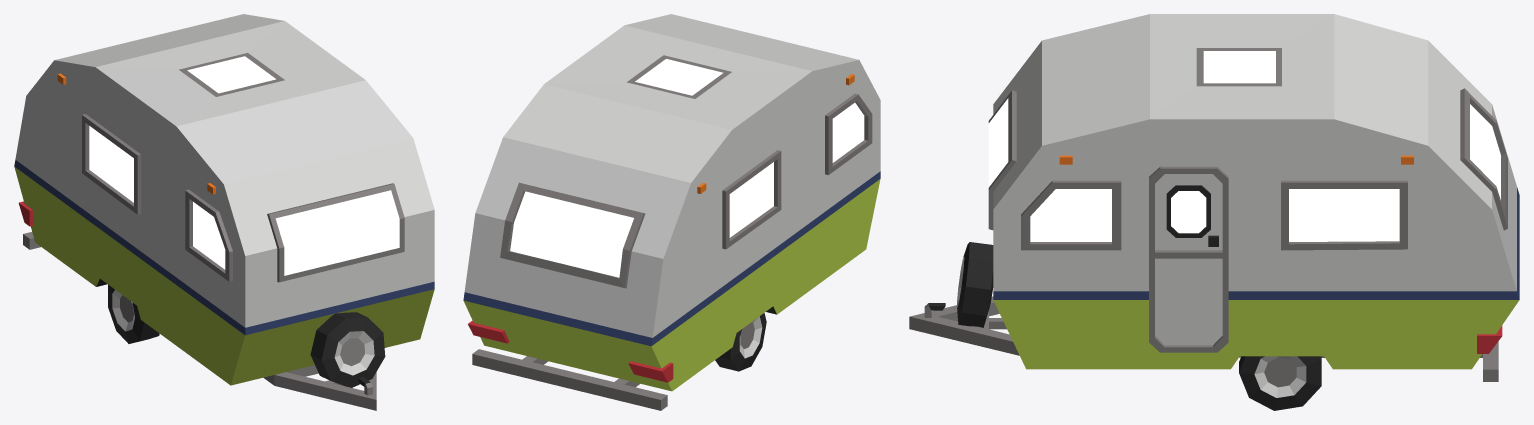
Rendered from vehicles-car-caravan-small.glb.
3 views of the same model, side by side, from view 1: azimuth 30°, elevation 25°; view 2: azimuth 150°, elevation 25°; view 3: azimuth 270°, elevation 25° (orthographic). The views are drawn at different scales.
Visible parts, largest first — view 1: car-caravan-small-base, car-caravan-small-wheel_R; view 2: car-caravan-small-base, car-caravan-small-wheel_R; view 3: car-caravan-small-base, car-caravan-small-wheel_L.
Boxes of the visible parts, x1=… form: car-caravan-small-base: x1=14, y1=14, x2=434, y2=410; car-caravan-small-wheel_R: x1=108, y1=284, x2=159, y2=343; car-caravan-small-base: x1=463, y1=14, x2=880, y2=410; car-caravan-small-wheel_R: x1=715, y1=313, x2=766, y2=371; car-caravan-small-base: x1=909, y1=14, x2=1519, y2=381; car-caravan-small-wheel_L: x1=1239, y1=356, x2=1321, y2=410.
Bounding box in the file's own units: 2.18 × 2.8 × 5.14.
